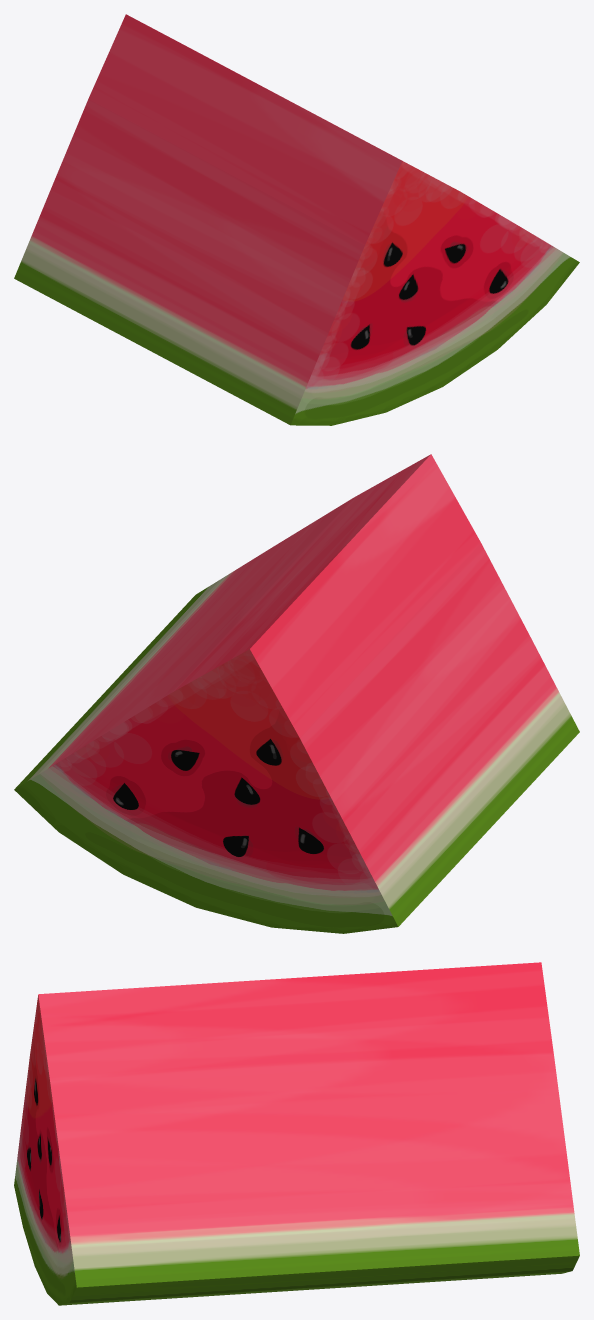
The model's file is Fruit_WatermelonQuarter.fbx.
3 views of the same model, one above another, from view 1: azimuth 30°, elevation 25°; view 2: azimuth 150°, elevation 25°; view 3: azimuth 270°, elevation 25° (orthographic). The views are drawn at different scales.
Parts seen in each view (by area): view 1: Watermelon_Quarter; view 2: Watermelon_Quarter; view 3: Watermelon_Quarter.
Part boxes in pixels (left/top/right/bottom): Watermelon_Quarter: left=14, top=14, right=579, bottom=425; Watermelon_Quarter: left=14, top=454, right=579, bottom=933; Watermelon_Quarter: left=14, top=962, right=579, bottom=1305.
Size of the model in its own units: 5.51 by 3.47 by 6.3.
Materials: 1 (1 with a texture image).
